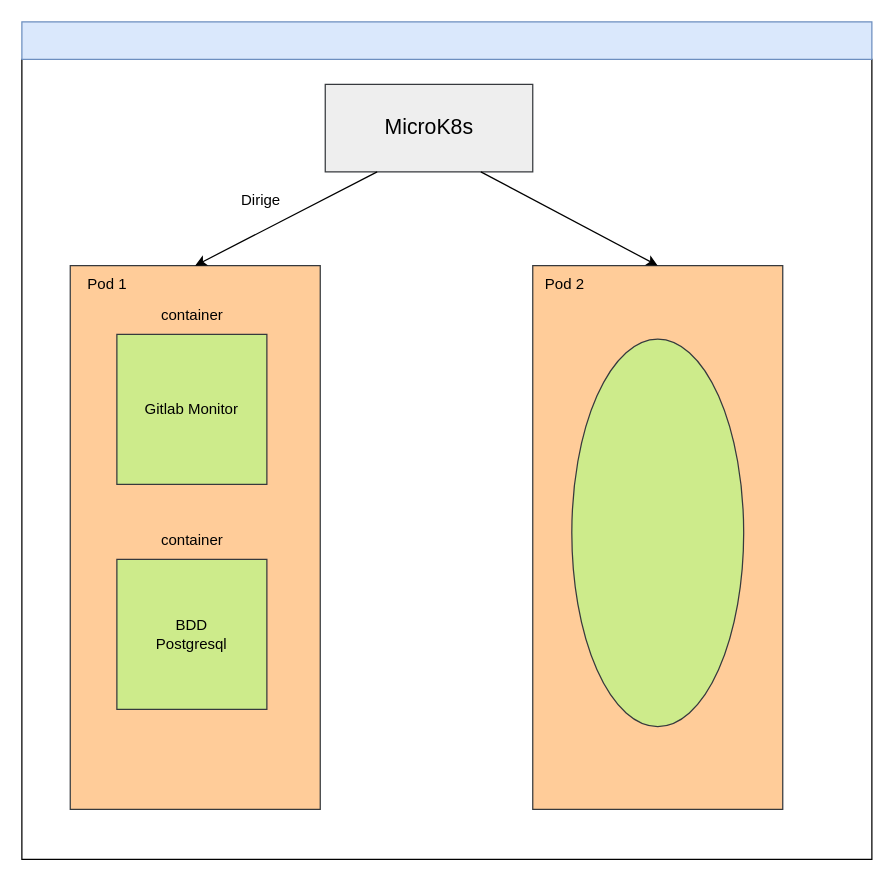
Image size: 894x881. Some labels were removed from this diagram. The shapes that lost their labels are listed below. From the top down, each one's box as (x1, y1, x2, y2) in pixels, then its label:
(21, 21, 872, 59): Zone Linagora
(571, 338, 744, 726): Stack EFK
